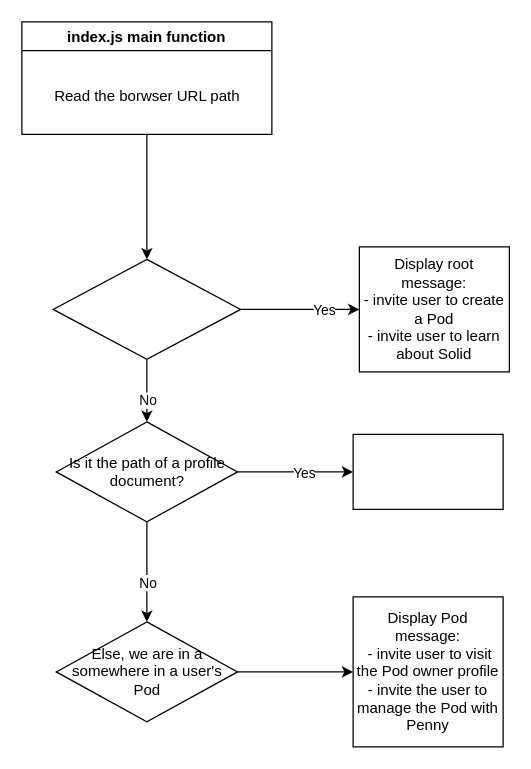
Image size: 531x769. Some labels were removed from this diagram. The shapes that lost their labels are listed below. From the top down, each one's centre as x and y in pixels, then its label:
the point at 146,308: Is it root path?
the point at 427,471: Show the profile viewer
